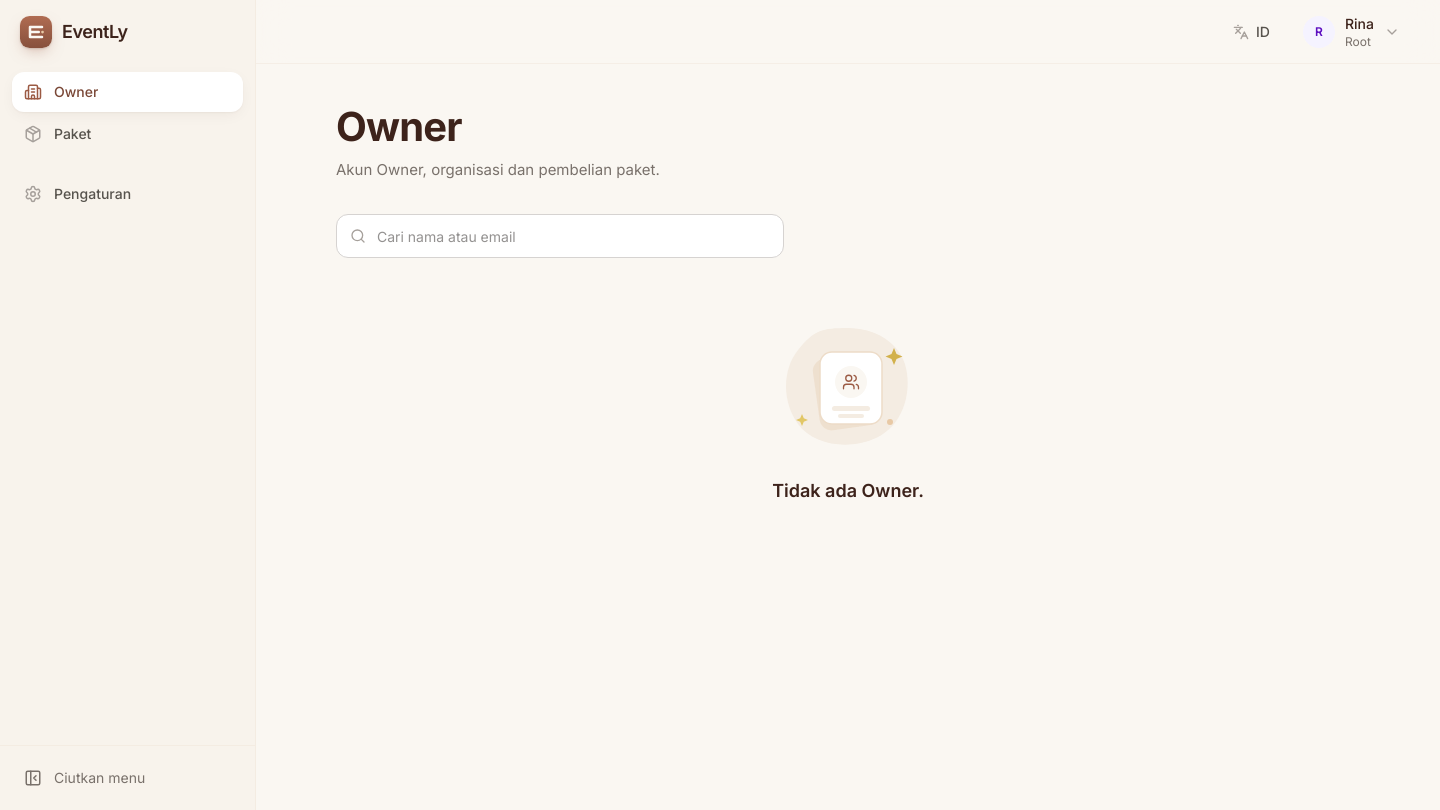
Root platform pages › switches between owners and packages
Note: The sidebar and the phone bottom navigation both have the link (CSS decides which one shows).
What coordinates should you click on to do the following:
click the link "Paket"
I would click on:
 (58, 134)
Its box is [24,125,91,143].
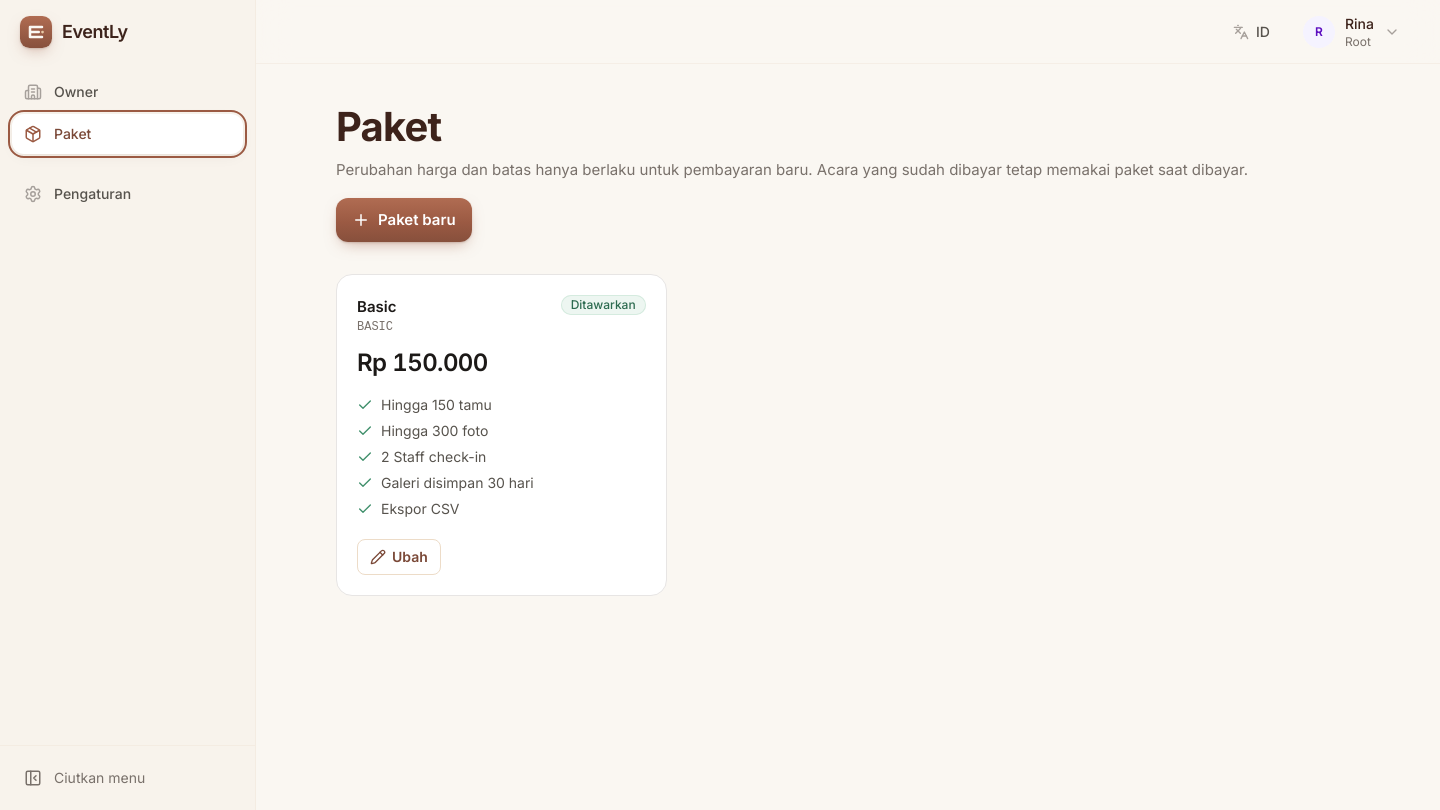
Now the heading "Paket" is shown, box [336,102,441,151]
Now the text "Basic" is shown, box [357,295,396,319]
